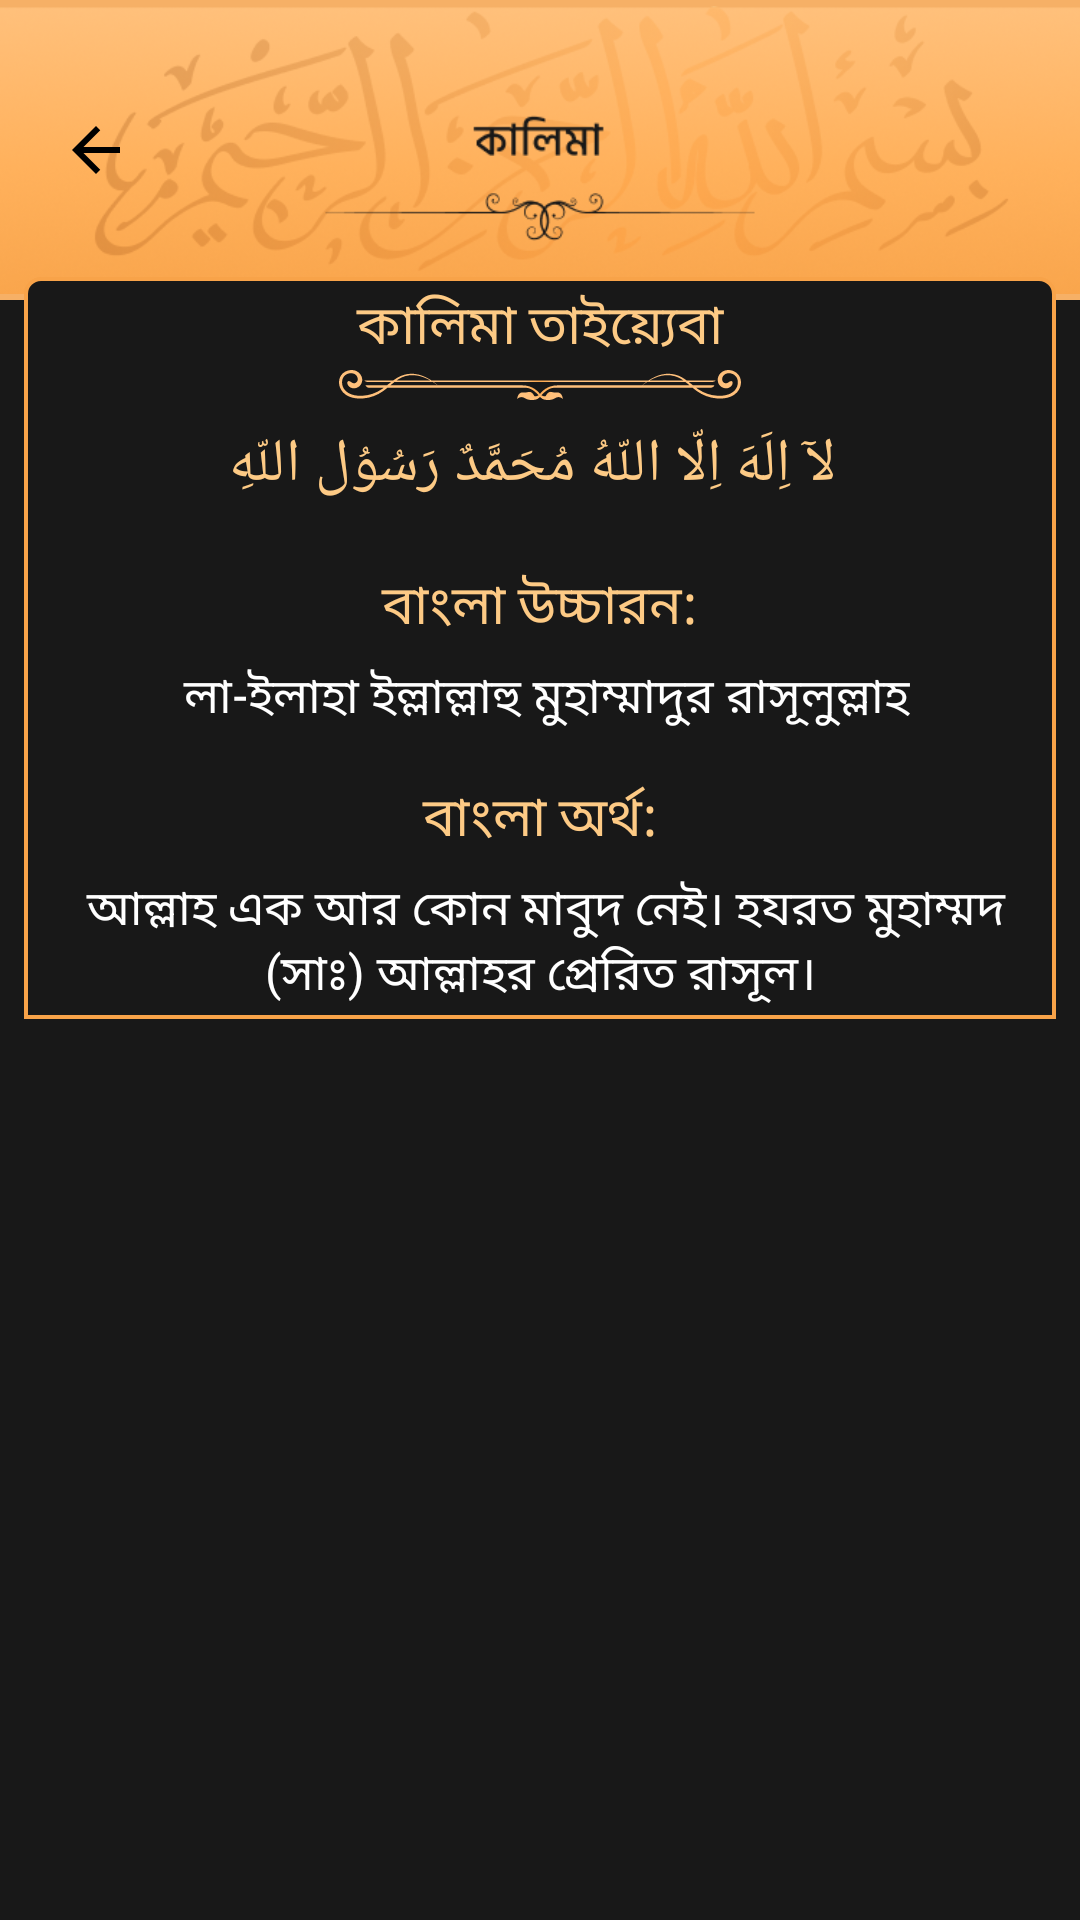

Icons on this 1080*1920 Android screen, each with the point to tap as (x,y):
back: (102,150)
